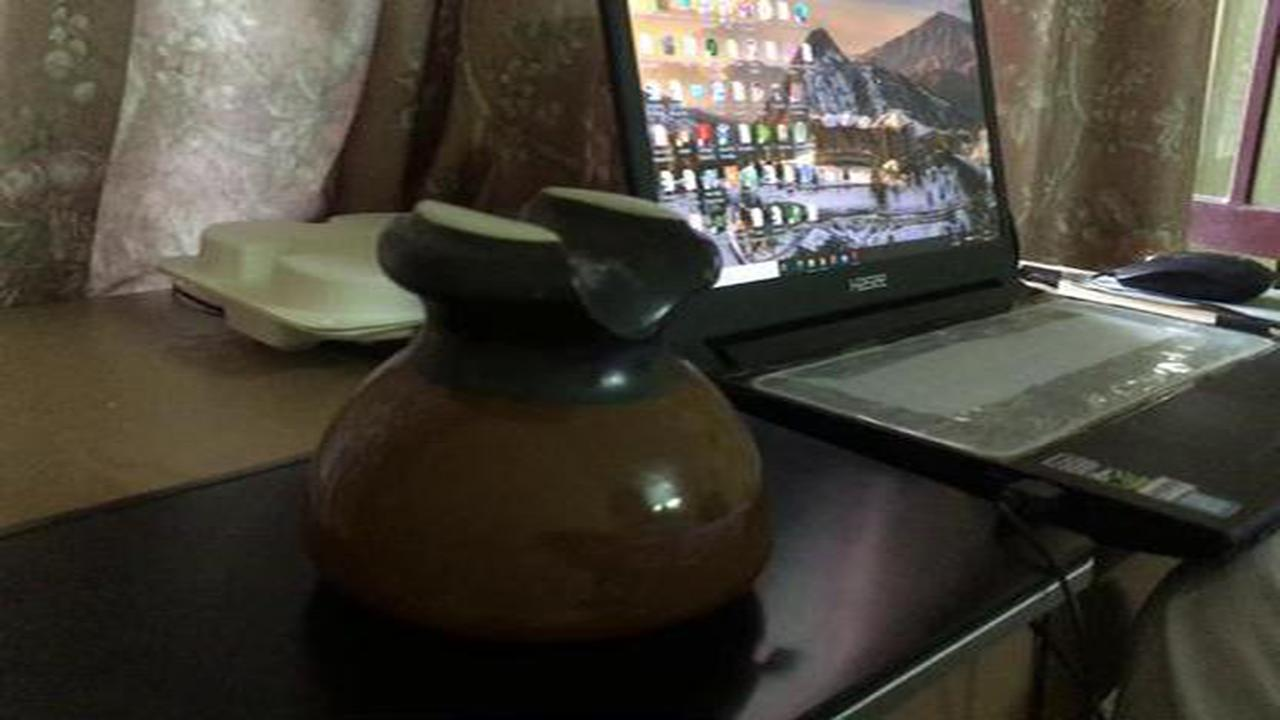insulator_pin: (284, 179, 794, 655)
